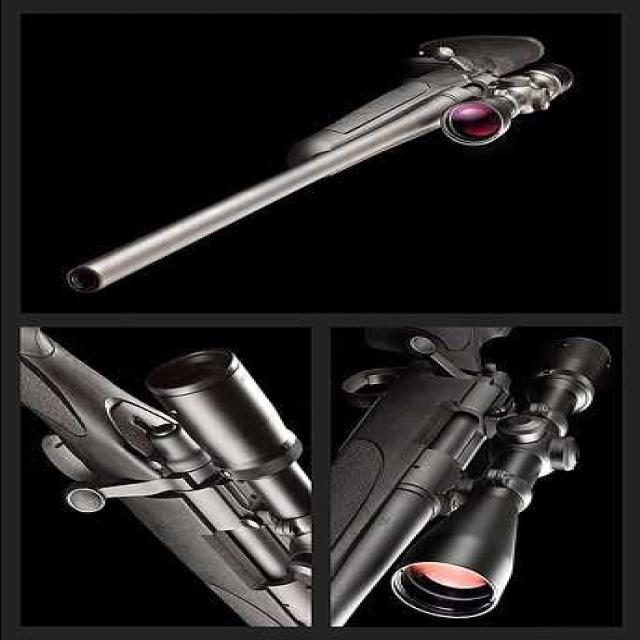heavyweapon: (64, 31, 572, 303), (12, 326, 312, 628), (327, 326, 615, 628)
